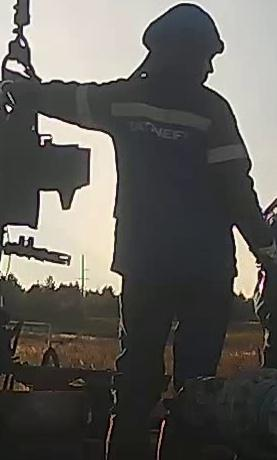gloves: (246, 230, 277, 279)
vest: (76, 79, 244, 291)
